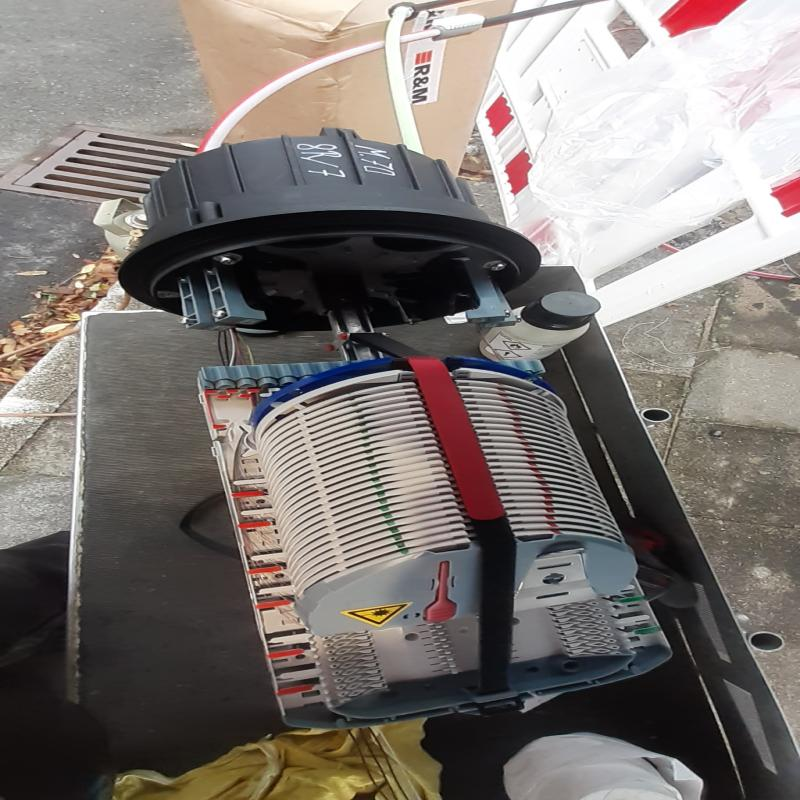NT-Muffen: (85, 128, 681, 735)
